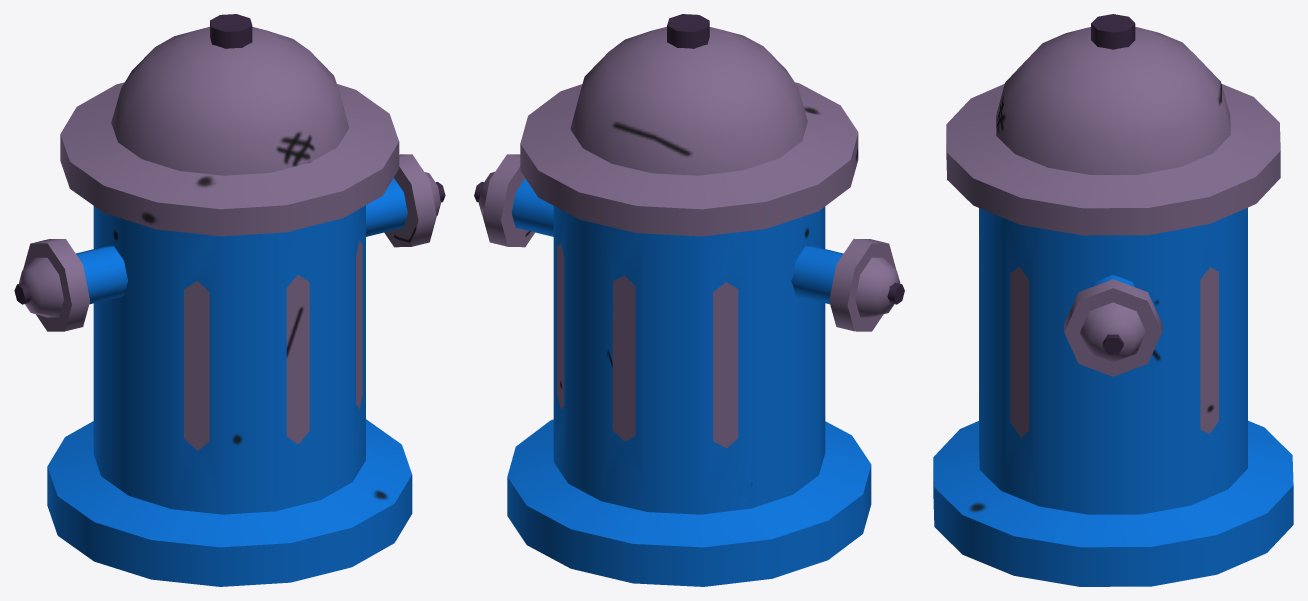
The model's file is Hydrant_.fbx.
3 renders of one model, left to right at view 1: azimuth 30°, elevation 25°; view 2: azimuth 150°, elevation 25°; view 3: azimuth 270°, elevation 25°, orthographic.
Visible parts, largest first — view 1: hydrant; view 2: hydrant; view 3: hydrant.
Boxes of the visible parts, left/top/right/bottom form: hydrant: left=14, top=14, right=445, bottom=586; hydrant: left=474, top=14, right=904, bottom=586; hydrant: left=933, top=14, right=1293, bottom=586.
Bounding box in the file's own units: 0.8756 × 0.9684 × 0.6475.
